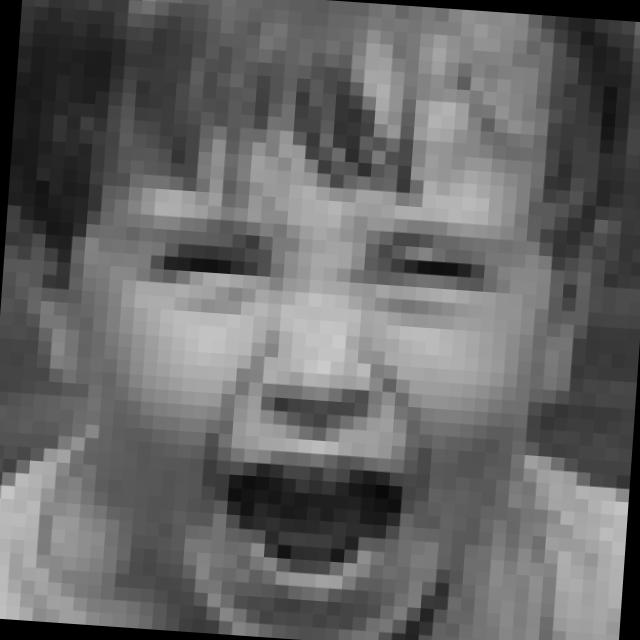angry: (99, 196, 522, 618)
